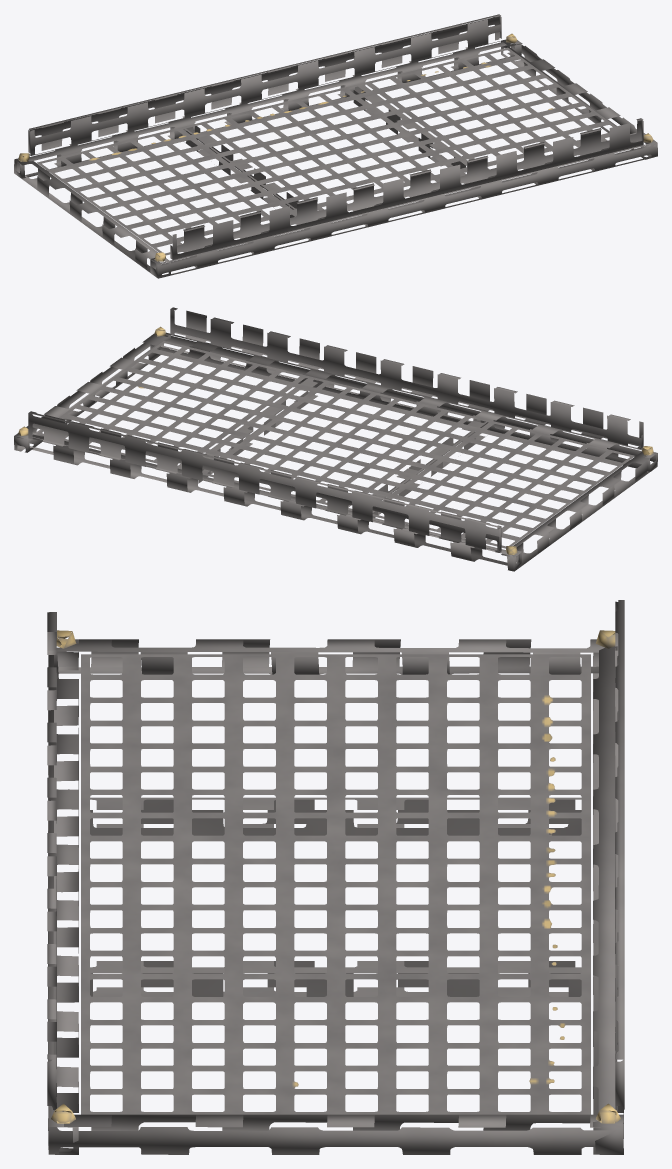
Rendered from catwalk_grate_lod1.gltf.
3 renders of one model, top to bottom at view 1: azimuth 30°, elevation 25°; view 2: azimuth 150°, elevation 25°; view 3: azimuth 270°, elevation 25°, orthographic. The views are drawn at different scales.
Visible parts, largest first — view 1: catwalk_grate_LOD1; view 2: catwalk_grate_LOD1; view 3: catwalk_grate_LOD1.
Part boxes in pixels (bbox=[...]): catwalk_grate_LOD1: bbox=[14, 14, 657, 278]; catwalk_grate_LOD1: bbox=[14, 307, 657, 571]; catwalk_grate_LOD1: bbox=[47, 600, 624, 1154].
Size of the model in its own units: 1.99 by 0.1563 by 0.9967.
1 material, 1 textured.
